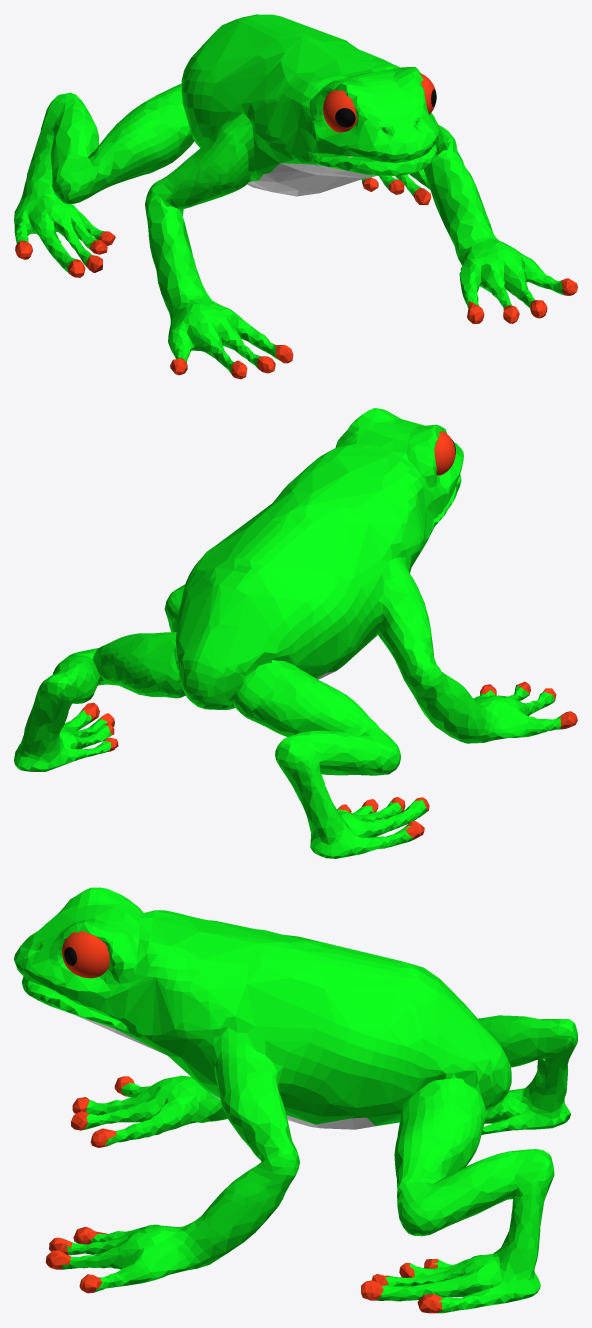
The model's file is Frog.obj.
3 views of the same model, one above another, from view 1: azimuth 30°, elevation 25°; view 2: azimuth 150°, elevation 25°; view 3: azimuth 270°, elevation 25° (orthographic). The views are drawn at different scales.
Parts seen in each view (by area): view 1: lefteye002, Object001; view 2: lefteye002, Object001; view 3: lefteye002, Object001.
Boxes of the visible parts, x1,y1,x2,y2 form: lefteye002: (14, 14, 577, 379); Object001: (323, 73, 435, 132); lefteye002: (14, 408, 577, 858); Object001: (434, 431, 455, 475); lefteye002: (14, 887, 577, 1313); Object001: (62, 931, 109, 978).
Size of the model in its own units: 17.74 by 10.65 by 18.64.
